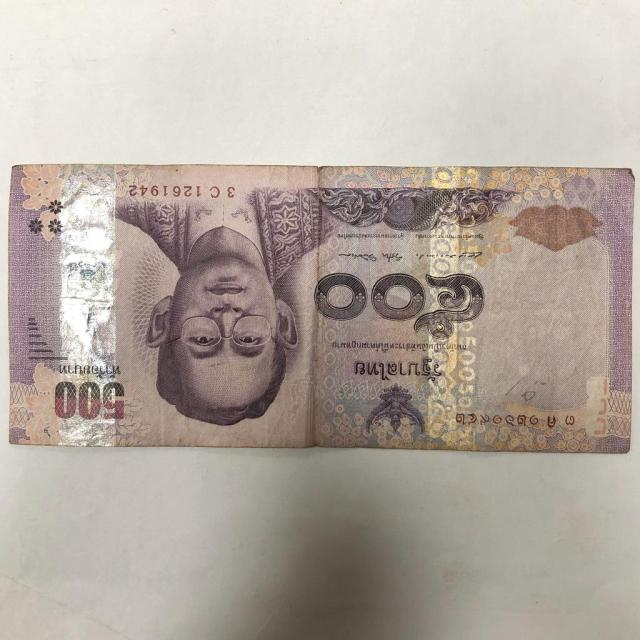THAI500: (5, 164, 638, 459)
